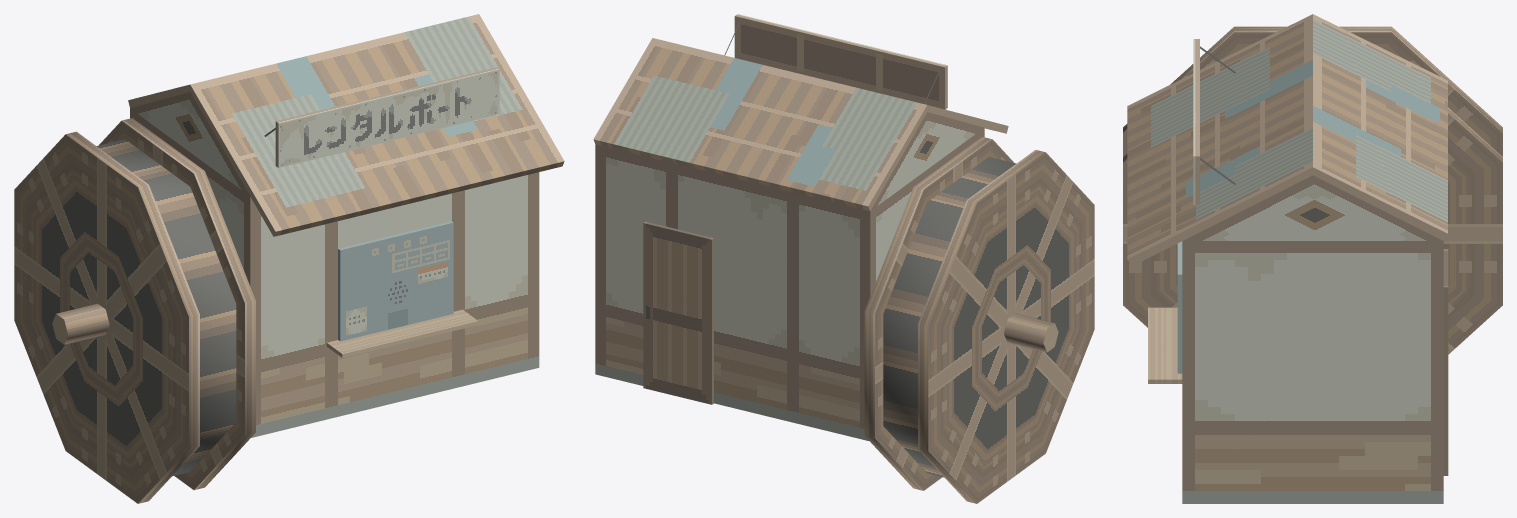
Rendered from 009e_Sailboat_Rental.glb.
3 renders of one model, left to right at view 1: azimuth 30°, elevation 25°; view 2: azimuth 150°, elevation 25°; view 3: azimuth 270°, elevation 25°, orthographic. The views are drawn at different scales.
Visible parts, largest first — view 1: part_0, part_1; view 2: part_0, part_1; view 3: part_0, part_1.
Part boxes in pixels (<box>): part_0: <box>128,14,564,437</box>; part_1: <box>14,118,255,503</box>; part_0: <box>593,14,1008,441</box>; part_1: <box>864,136,1094,503</box>; part_0: <box>1127,14,1448,503</box>; part_1: <box>1123,26,1502,354</box>.
Bounding box in the file's own units: 5.58 × 4.73 × 4.03.
2 materials, 2 textured.
